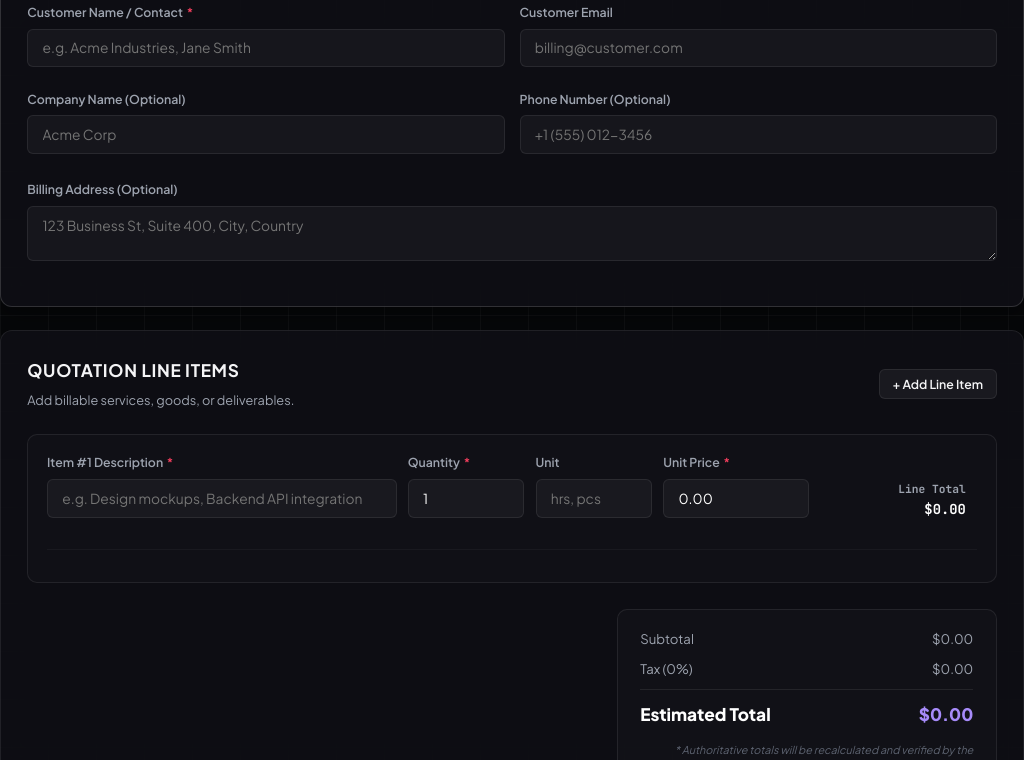
Scenario: QuotationForm › adds and removes line items dynamically
(page scrolled)
Check: the field labelled "Item #1 Description *" is shown, box [47,479,396,518]
Step 1. Click the button "+ Add Line Item" → (938, 384), box [879,369,997,399]
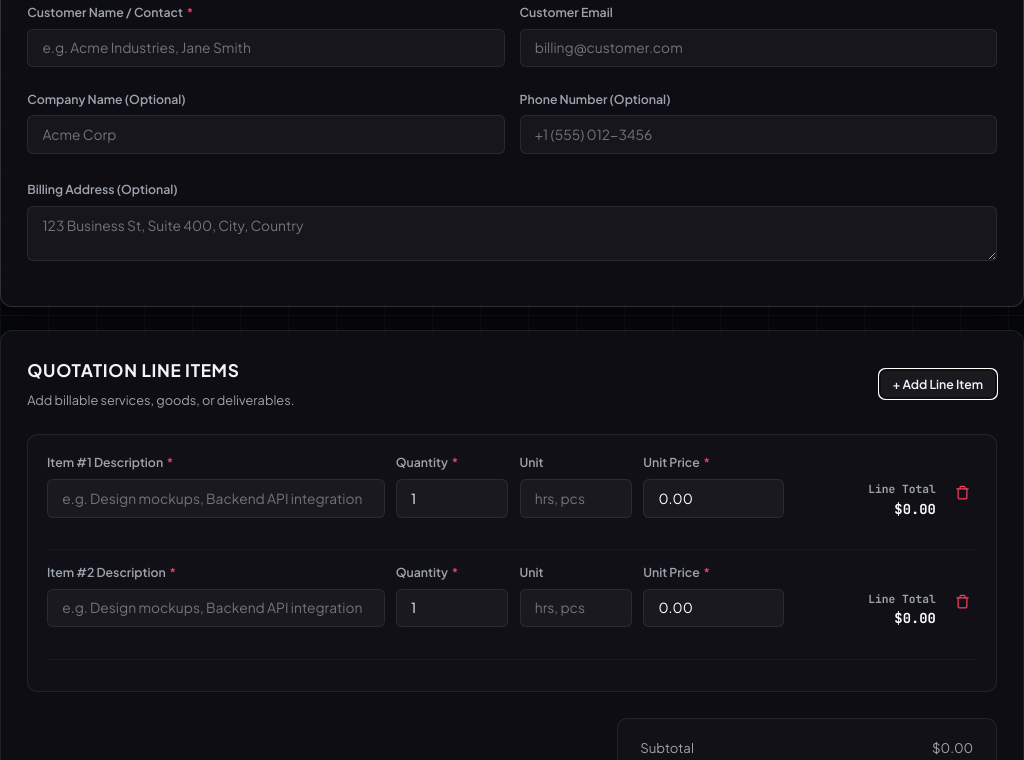
Check: the field labelled "Item #2 Description *" is shown, box [47,589,384,627]
Step 2. Click the button named "remove item #2" → (962, 603), box [947,587,977,619]
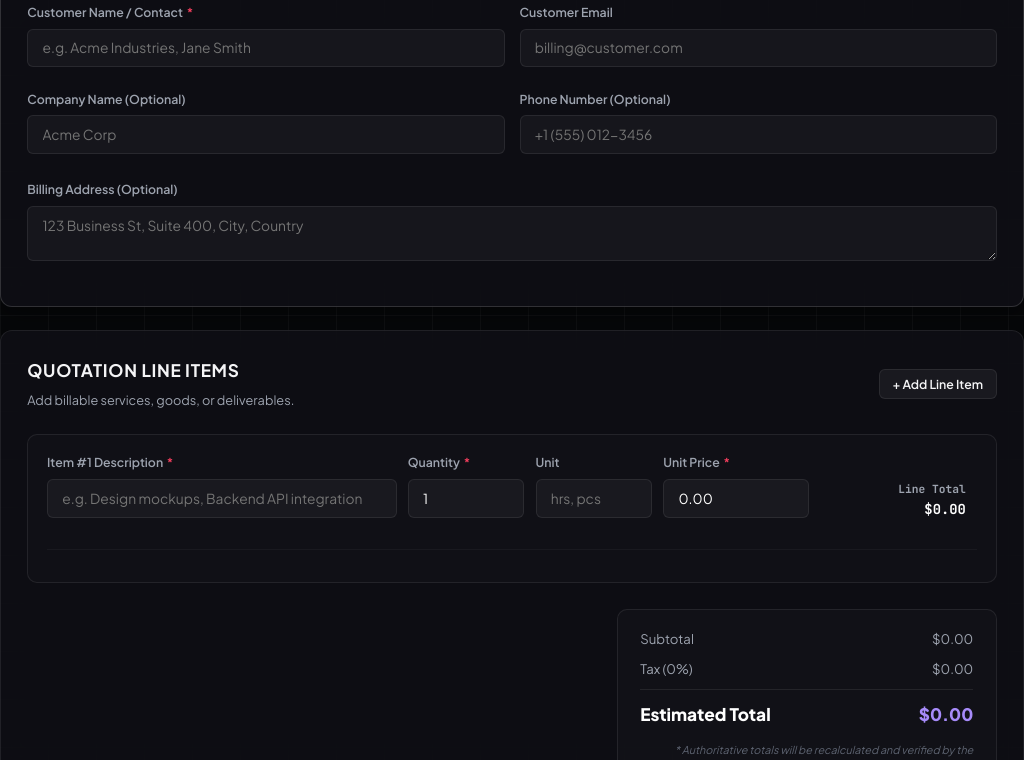
Check: the label labelled "Item #2 Description" is gone
